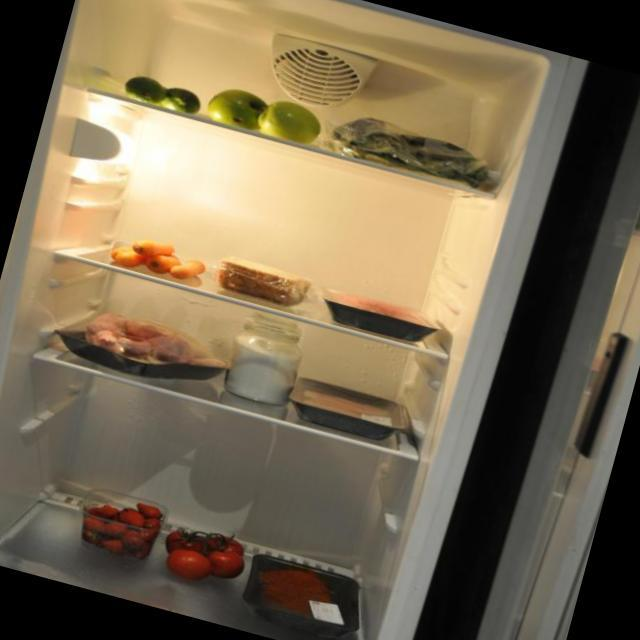Carne pollo: (46, 284, 229, 398)
Manzana: (203, 76, 325, 153)
Tomate: (63, 474, 179, 571), (151, 505, 258, 598)
Zanahoria: (99, 221, 212, 287)
lime: (123, 67, 205, 118)
meat: (232, 540, 369, 640), (287, 368, 411, 450), (319, 281, 441, 352)
spinach: (327, 99, 495, 194)
